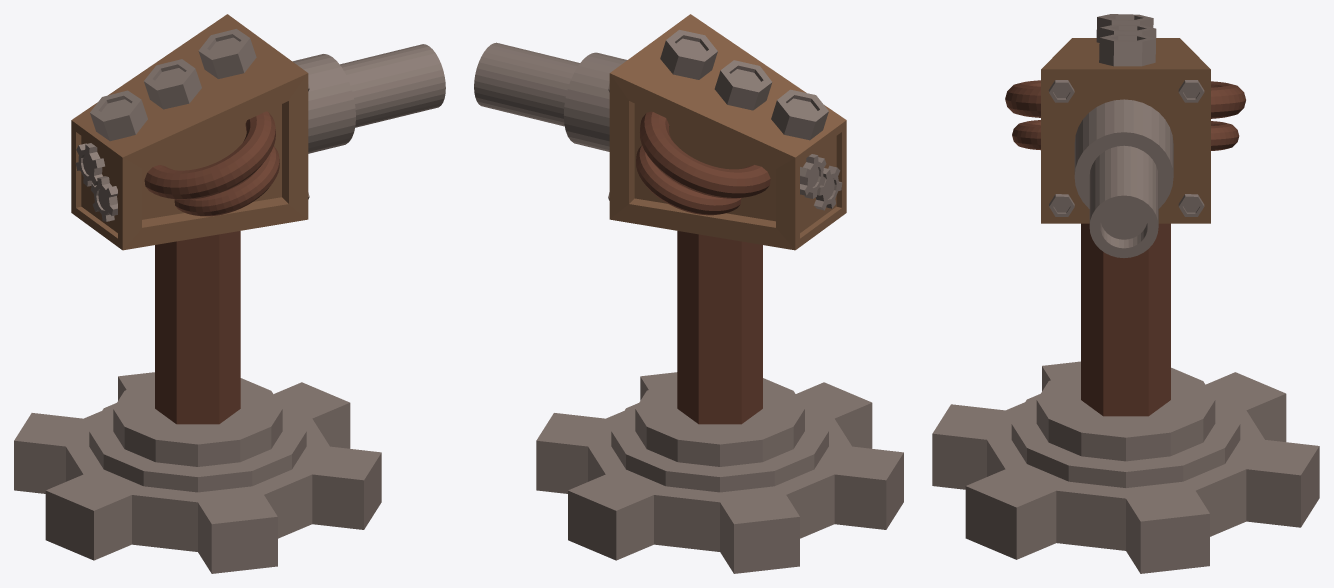
Rendered from Basic_Tower.fbx.
3 renders of one model, left to right at view 1: azimuth 30°, elevation 25°; view 2: azimuth 150°, elevation 25°; view 3: azimuth 270°, elevation 25°, orthographic. The views are drawn at different scales.
Parts seen in each view (by area): view 1: Base, Body, Shaft, Turret, Tubes, Bolts, Gears; view 2: Base, Body, Shaft, Turret, Tubes, Bolts, Gears; view 3: Base, Body, Shaft, Turret, Bolts, Tubes.
Part boxes in pixels (x1,y1,x2,y2): Base: (14,372,381,573); Body: (71,14,308,250); Shaft: (155,231,240,424); Turret: (292,44,445,153); Tubes: (144,111,279,216); Bolts: (90,29,309,199); Gears: (75,143,117,221); Base: (536,372,903,573); Body: (609,14,846,250); Shaft: (677,231,762,424); Turret: (474,42,627,151); Tubes: (636,111,770,215); Bolts: (608,29,828,200); Gears: (800,154,842,210); Base: (932,361,1319,573); Body: (1041,38,1210,223); Shaft: (1081,223,1170,416); Turret: (1074,99,1173,257); Bolts: (1048,14,1204,216); Tubes: (1005,80,1245,150).
Bounding box in the file's own units: 245 × 271 × 200.
